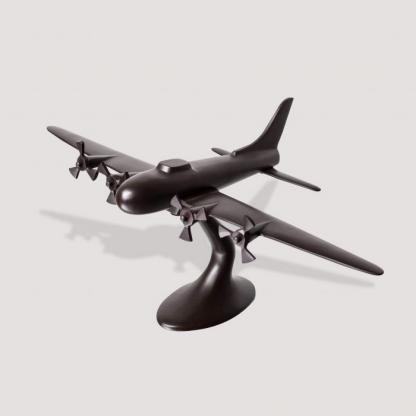CIV_Plane: (41, 94, 391, 282)
